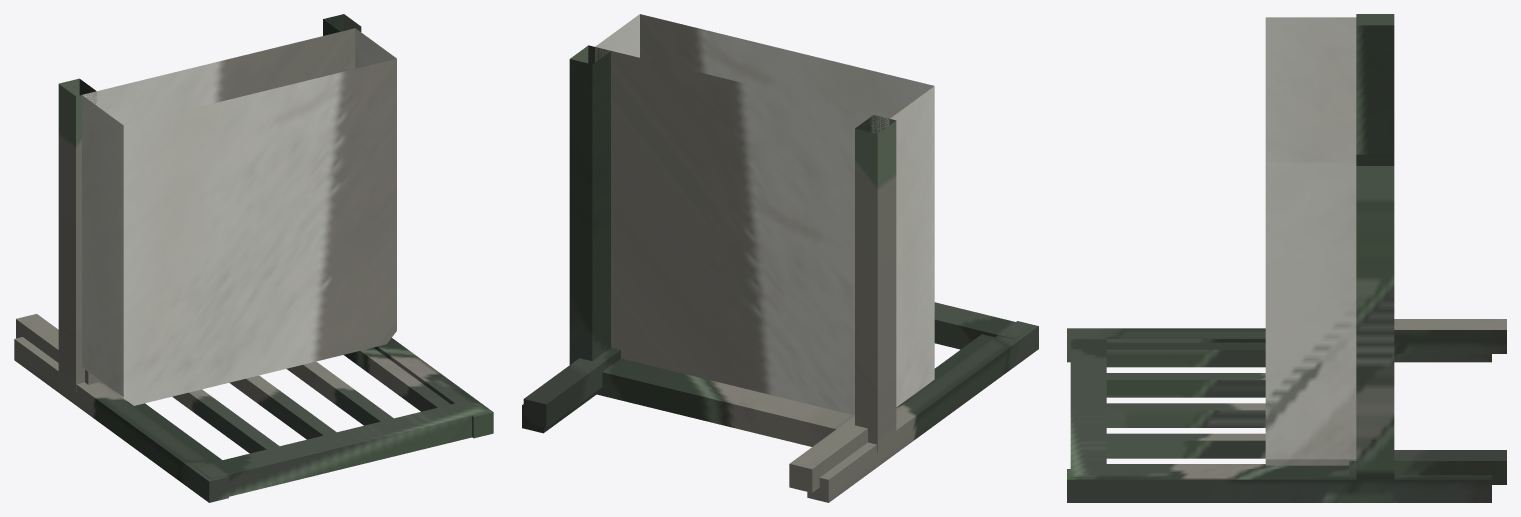
File: pz_bed_bedding_01_hospital_0_0.obj
The picture shows the model from 3 angles, left to right: view 1: azimuth 30°, elevation 25°; view 2: azimuth 150°, elevation 25°; view 3: azimuth 270°, elevation 25°; orthographic projection. The views are drawn at different scales.
Parts seen in each view (by area): view 1: root; view 2: root; view 3: root.
Boxes of the visible parts, x1,y1,x2,y2 form: root: (14, 14, 493, 502); root: (522, 14, 1038, 502); root: (1067, 14, 1506, 502).
Bounding box in the file's own units: 0.95 × 0.985 × 1.16.
1 material, 1 textured.
